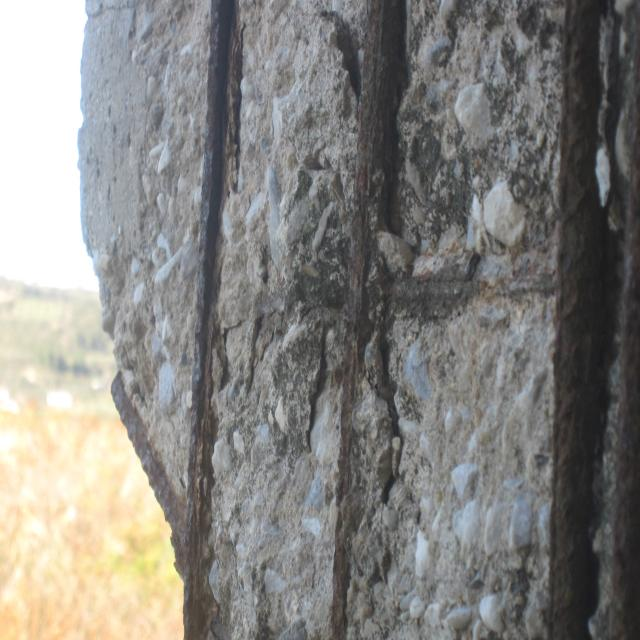corrosion: (326, 0, 640, 640), (88, 0, 254, 640)
